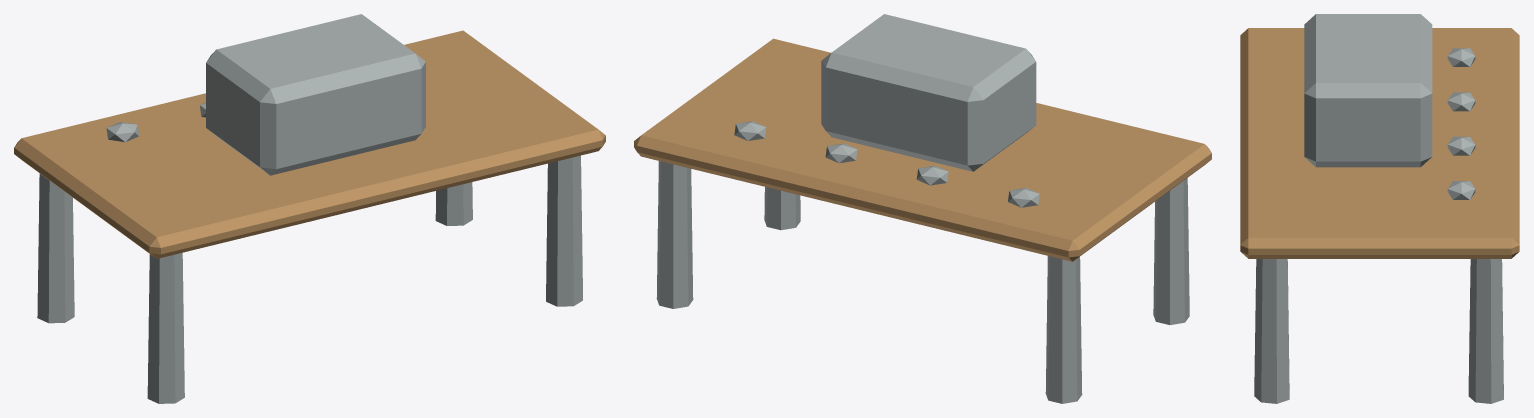
Rendered from CC_Stonecutter.fbx.
The picture shows the model from 3 angles, left to right: view 1: azimuth 30°, elevation 25°; view 2: azimuth 150°, elevation 25°; view 3: azimuth 270°, elevation 25°; orthographic projection. The views are drawn at different scales.
Visible parts, largest first — view 1: Top.003, Stone block.012, Leg.064, Leg.066, Leg.065, Leg.067, Chip; view 2: Top.003, Stone block.012, Leg.065, Leg.067, Leg.064, Leg.066, Chip.002, Chip.001, Chip.003, Chip; view 3: Top.003, Stone block.012, Leg.067, Leg.066, Chip.002, Chip.001, Chip, Chip.003.
Part boxes in pixels (x1,y1,x2,y2): Top.003: [14, 30, 605, 258]; Stone block.012: [206, 14, 425, 175]; Leg.064: [147, 252, 184, 403]; Leg.066: [546, 155, 582, 306]; Leg.065: [37, 173, 74, 323]; Leg.067: [435, 182, 472, 225]; Chip: [106, 122, 139, 142]; Top.003: [634, 38, 1211, 261]; Stone block.012: [821, 14, 1036, 171]; Leg.065: [1045, 256, 1082, 403]; Leg.067: [656, 161, 693, 308]; Leg.064: [1153, 178, 1189, 324]; Leg.066: [764, 187, 800, 230]; Chip.002: [825, 143, 857, 163]; Chip.001: [916, 165, 948, 185]; Chip.003: [734, 121, 766, 140]; Chip: [1008, 188, 1039, 207]; Top.003: [1240, 28, 1519, 258]; Stone block.012: [1304, 14, 1432, 167]; Leg.067: [1468, 259, 1503, 403]; Leg.066: [1254, 259, 1289, 403]; Chip.002: [1447, 136, 1475, 155]; Chip.001: [1447, 92, 1475, 111]; Chip: [1447, 48, 1475, 66]; Chip.003: [1447, 181, 1475, 199].
Bounding box in the file's own units: 2.2 × 1.2 × 1.2.
